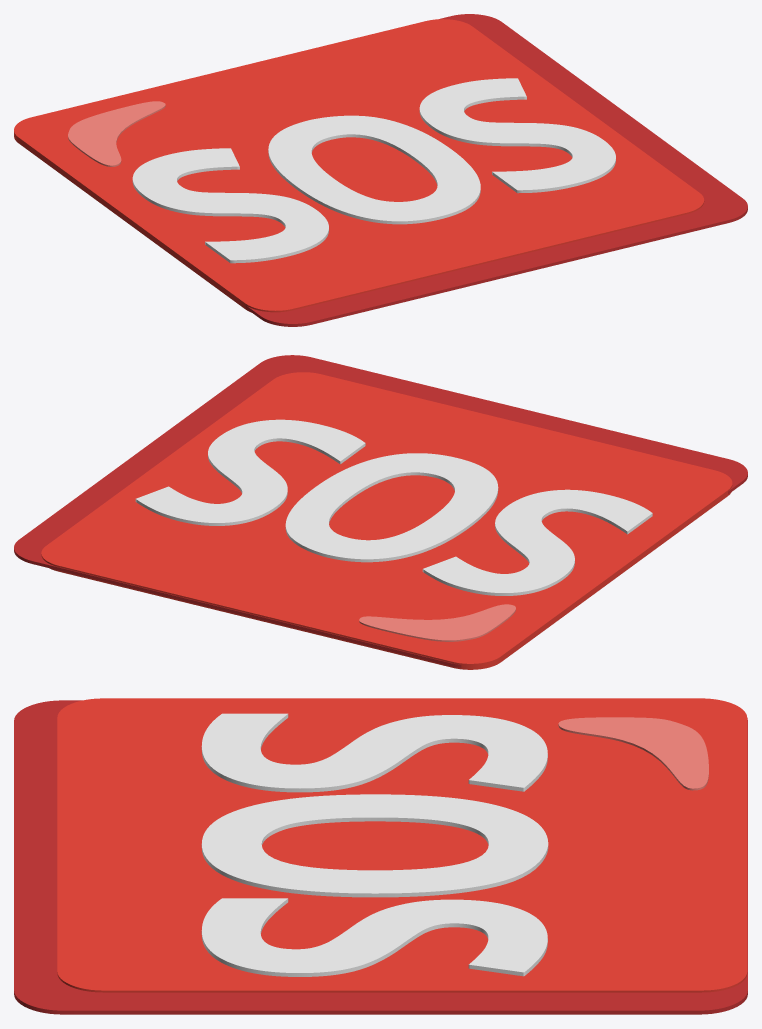
The model's file is emoji_u1f198.glb.
3 views of the same model, one above another, from view 1: azimuth 30°, elevation 25°; view 2: azimuth 150°, elevation 25°; view 3: azimuth 270°, elevation 25° (orthographic). The views are drawn at different scales.
Visible parts, largest first — view 1: emoji_u1f198; view 2: emoji_u1f198; view 3: emoji_u1f198.
Part boxes in pixels (x1,y1,x2,y2): emoji_u1f198: (14,14,747,326); emoji_u1f198: (14,355,747,669); emoji_u1f198: (14,698,747,1014).
Size of the model in its own units: 0.0339 by 0.0008 by 0.0339.
